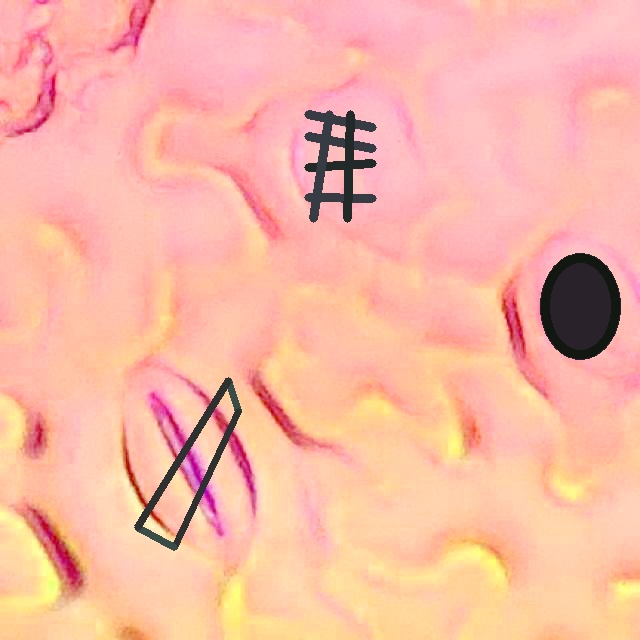close: (540, 253, 620, 359), (304, 110, 375, 221)
open: (134, 377, 241, 550)
